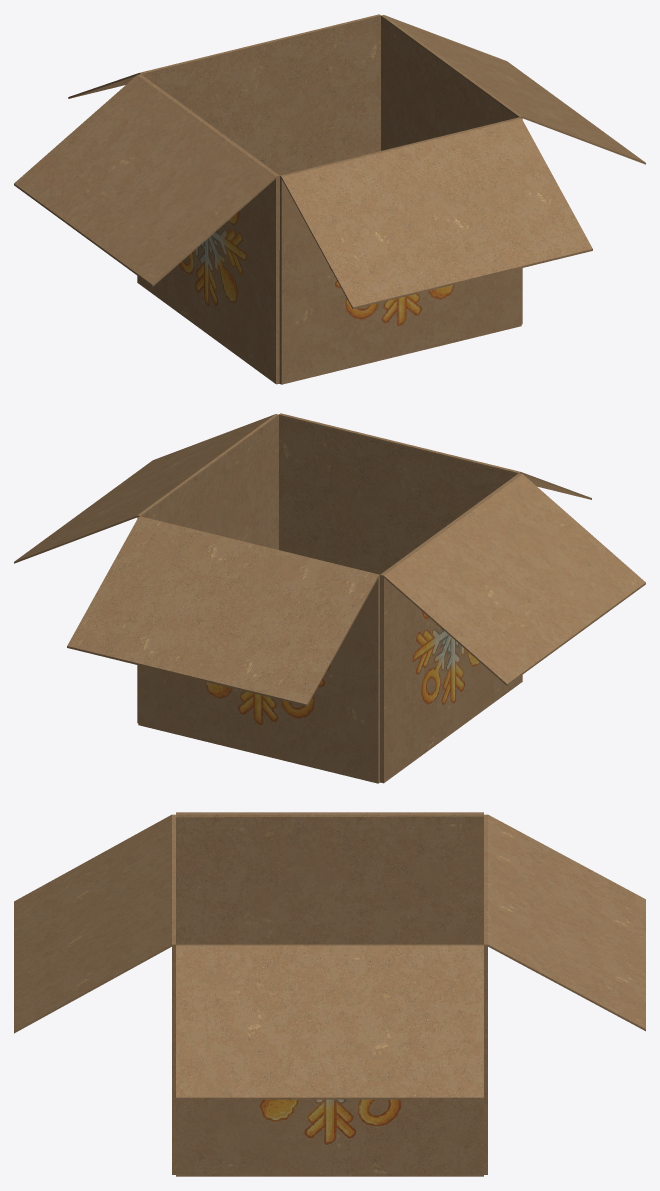
The model's file is FryableBox.fbx.
3 views of the same model, one above another, from view 1: azimuth 30°, elevation 25°; view 2: azimuth 150°, elevation 25°; view 3: azimuth 270°, elevation 25° (orthographic). The views are drawn at different scales.
Parts seen in each view (by area): view 1: pCube1; view 2: pCube1; view 3: pCube1.
Boxes of the visible parts, box(x1,y1,x2,y2) form: pCube1: box(14, 14, 645, 384); pCube1: box(14, 413, 645, 783); pCube1: box(14, 812, 645, 1176).
Size of the model in its own units: 4.39 by 1.77 by 4.39.
1 material, 1 textured.
